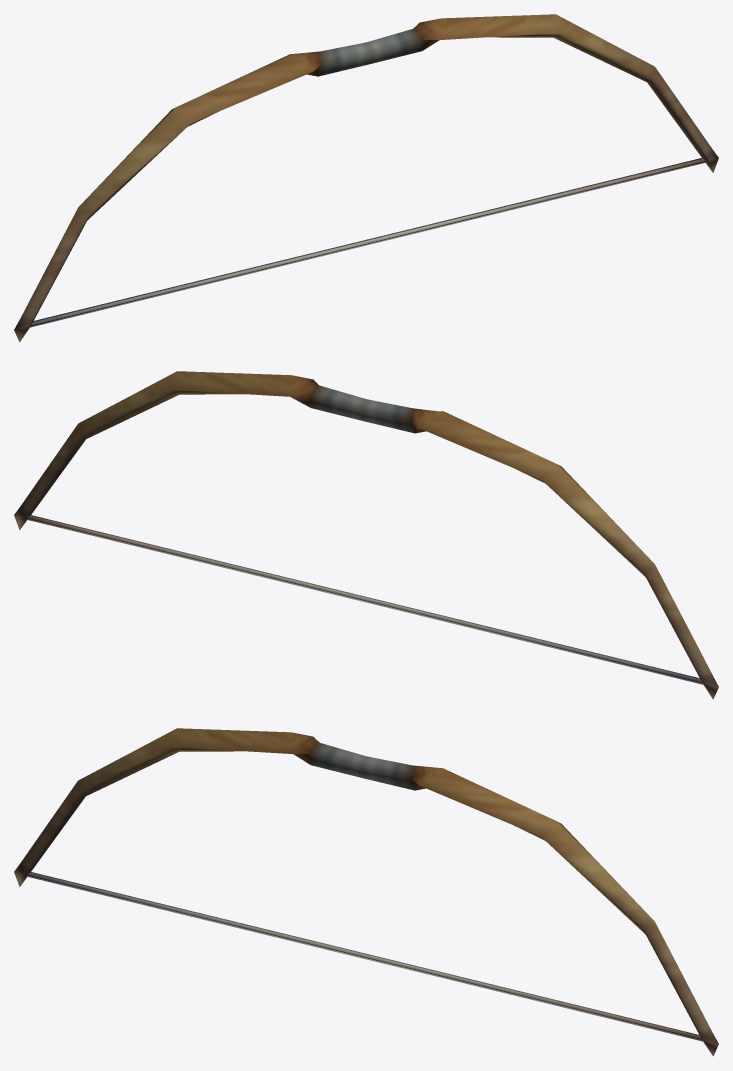
Rendered from noviceBow.glb.
3 views of the same model, one above another, from view 1: azimuth 30°, elevation 25°; view 2: azimuth 150°, elevation 25°; view 3: azimuth 330°, elevation 25° (orthographic).
Visible parts, largest first — view 1: noviceBow; view 2: noviceBow; view 3: noviceBow.
Part boxes in pixels (box(x1,y1,x2,y2)): noviceBow: box(14, 14, 718, 342); noviceBow: box(14, 371, 718, 699); noviceBow: box(14, 728, 718, 1056).
Size of the model in its own units: 1.13 by 0.3381 by 0.0653.
Materials: 1 (1 with a texture image).
